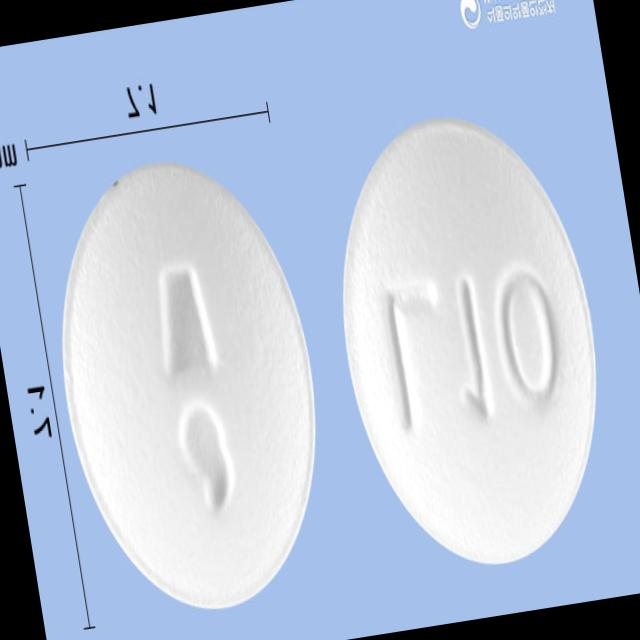Leflu - 20mg: (310, 97, 630, 590), (30, 145, 349, 635)
